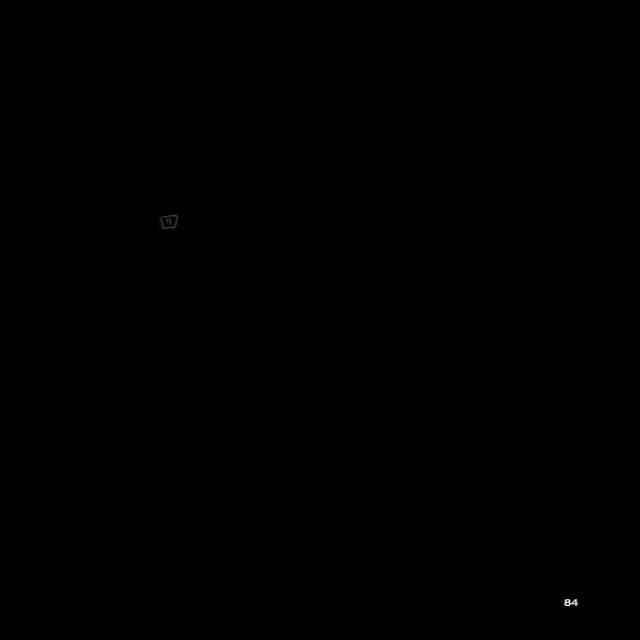4 -four-: (158, 212, 180, 232)
